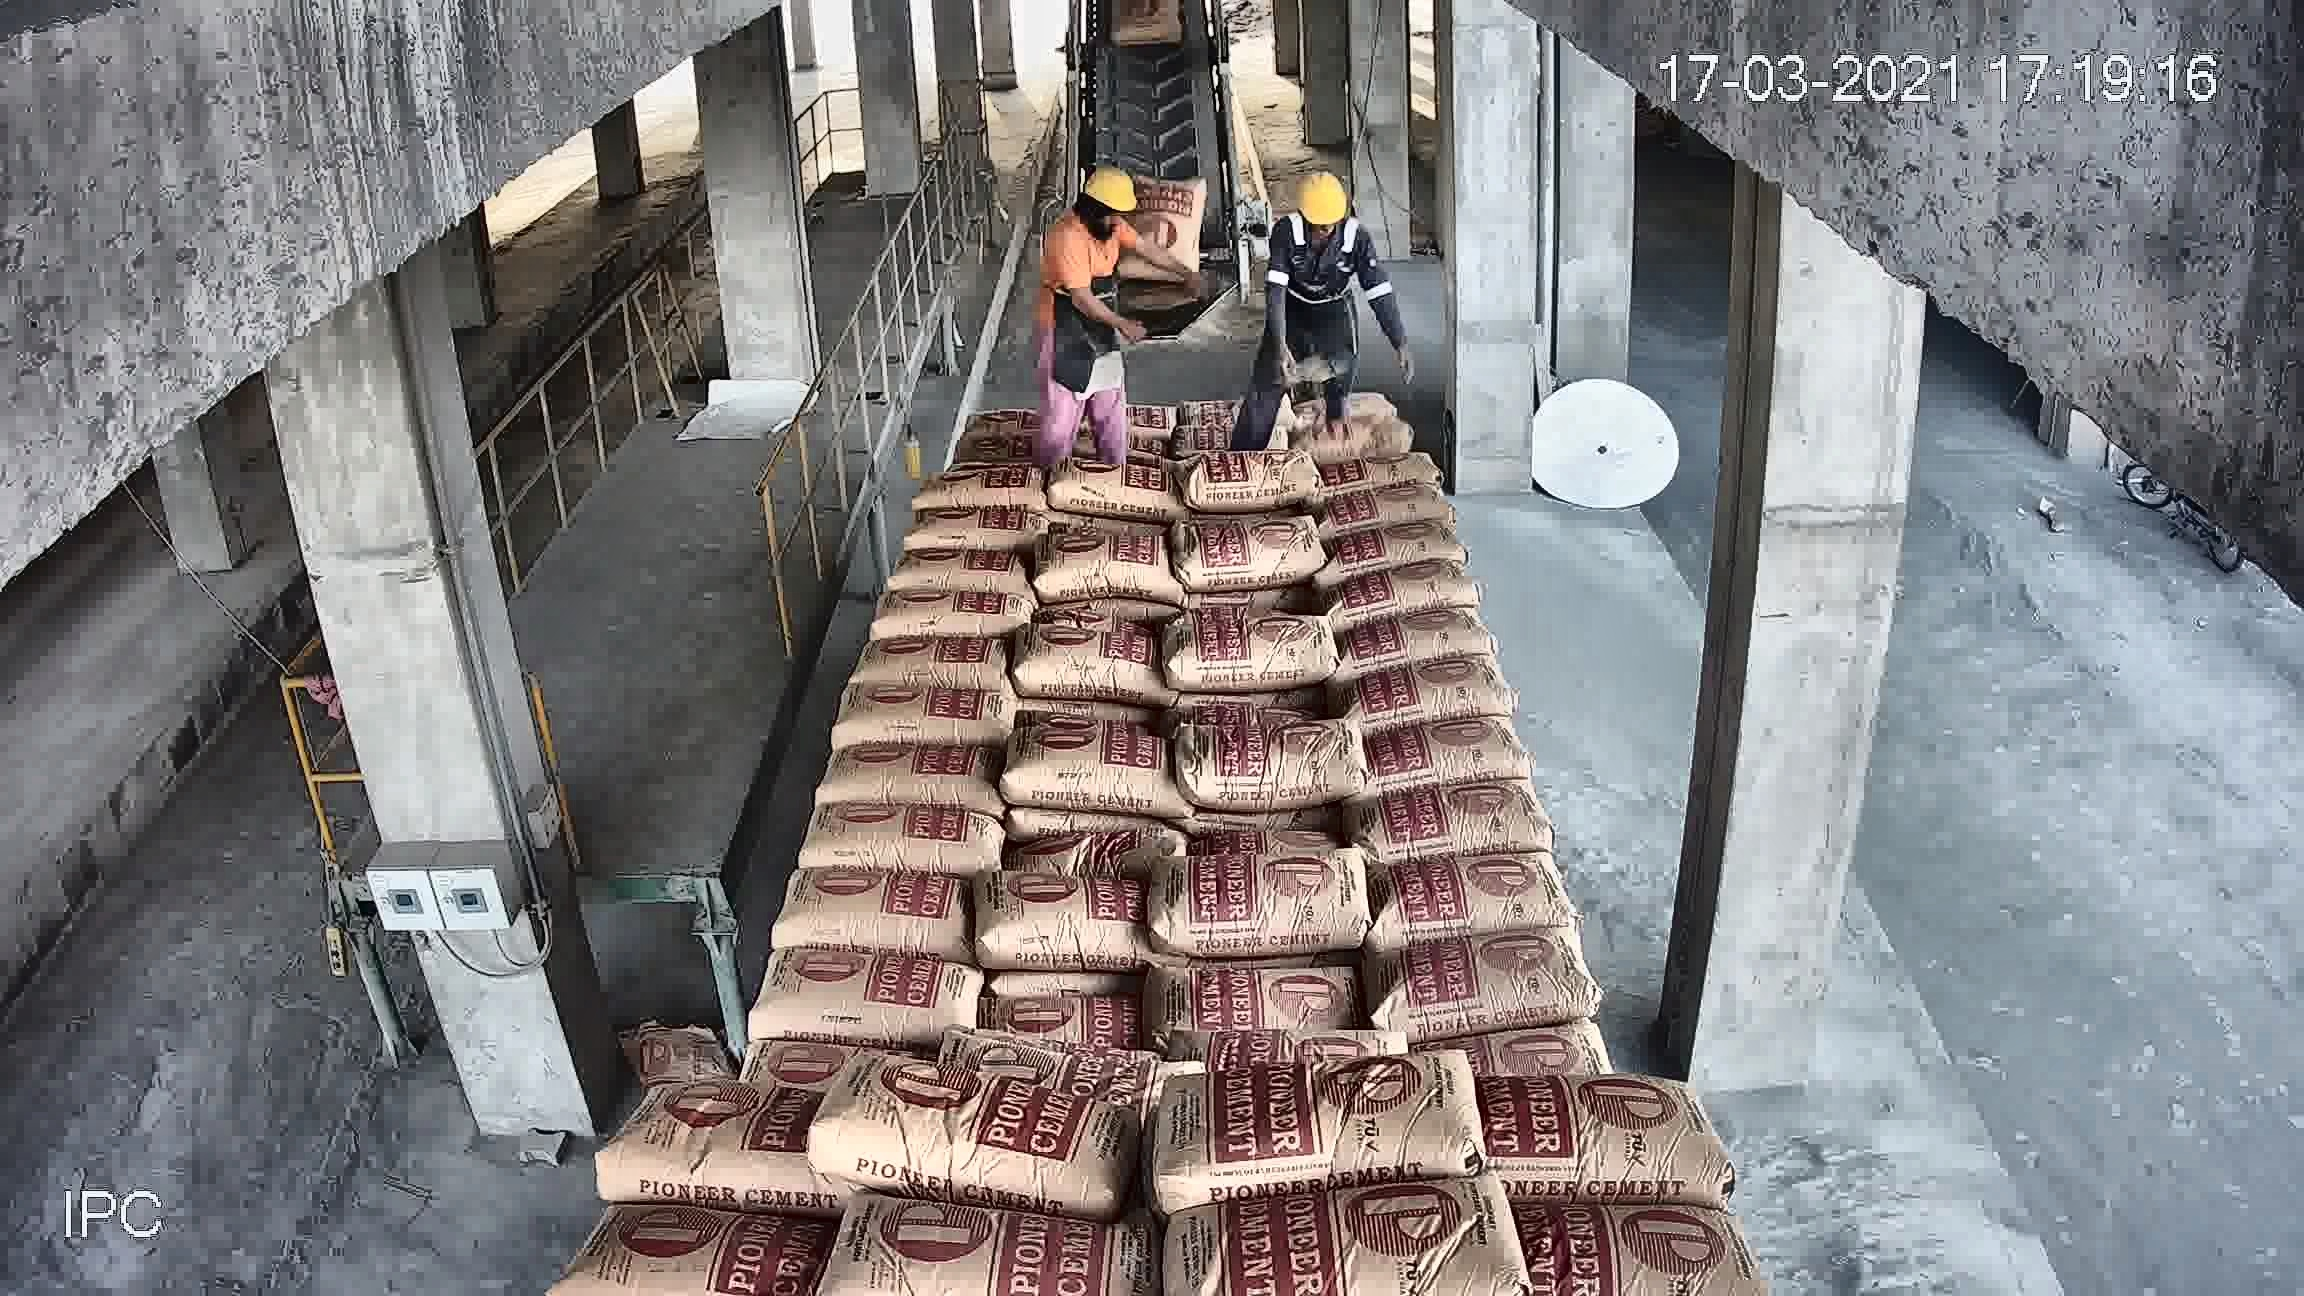bag: (1127, 171, 1207, 271), (1105, 3, 1180, 46)
bag_h: (798, 1059, 1139, 1207), (1165, 1161, 1533, 1287), (1143, 1051, 1465, 1193), (1362, 910, 1612, 1052), (812, 1188, 1171, 1285), (1473, 1076, 1719, 1196), (1154, 842, 1375, 953), (585, 1082, 798, 1193), (1378, 836, 1579, 946), (763, 862, 987, 959), (1168, 997, 1451, 1073), (745, 946, 992, 1029), (555, 1203, 820, 1279), (972, 859, 1143, 972), (1533, 1215, 1760, 1296), (994, 722, 1185, 813), (1343, 714, 1541, 802), (801, 801, 1010, 885), (829, 674, 1036, 758), (1351, 785, 1541, 870), (1359, 628, 1522, 726), (1410, 1017, 1617, 1092), (1146, 949, 1377, 1014), (946, 1021, 1196, 1079), (847, 619, 1027, 699), (1185, 718, 1362, 799), (1329, 601, 1502, 684), (962, 965, 1149, 1041), (1168, 502, 1328, 590), (1003, 798, 1184, 872), (1155, 604, 1343, 676), (813, 737, 1010, 805), (1010, 533, 1171, 612), (1321, 563, 1492, 628), (1017, 638, 1161, 712), (1182, 446, 1324, 521), (1298, 521, 1468, 579), (1309, 473, 1451, 543), (1052, 457, 1184, 519), (859, 590, 1033, 635), (905, 459, 1052, 510), (877, 544, 1033, 592), (900, 497, 1060, 541), (1312, 400, 1412, 467), (1320, 440, 1438, 495)
belt: (1065, 38, 1245, 312)
